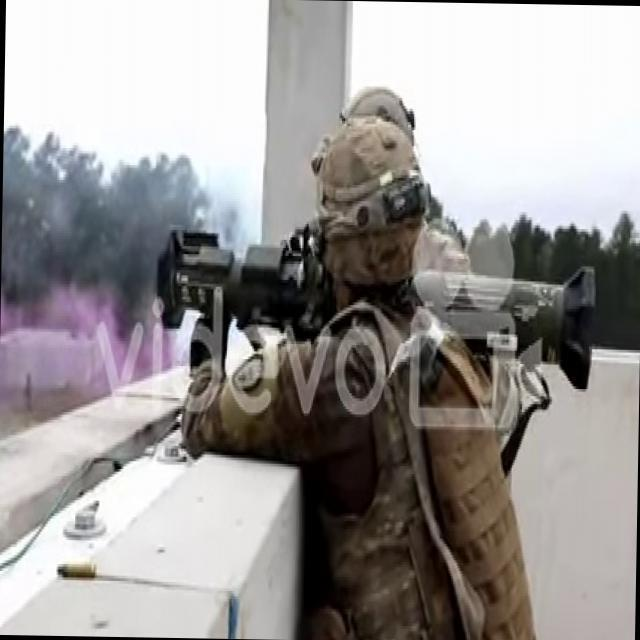rocket: (158, 226, 596, 386)
